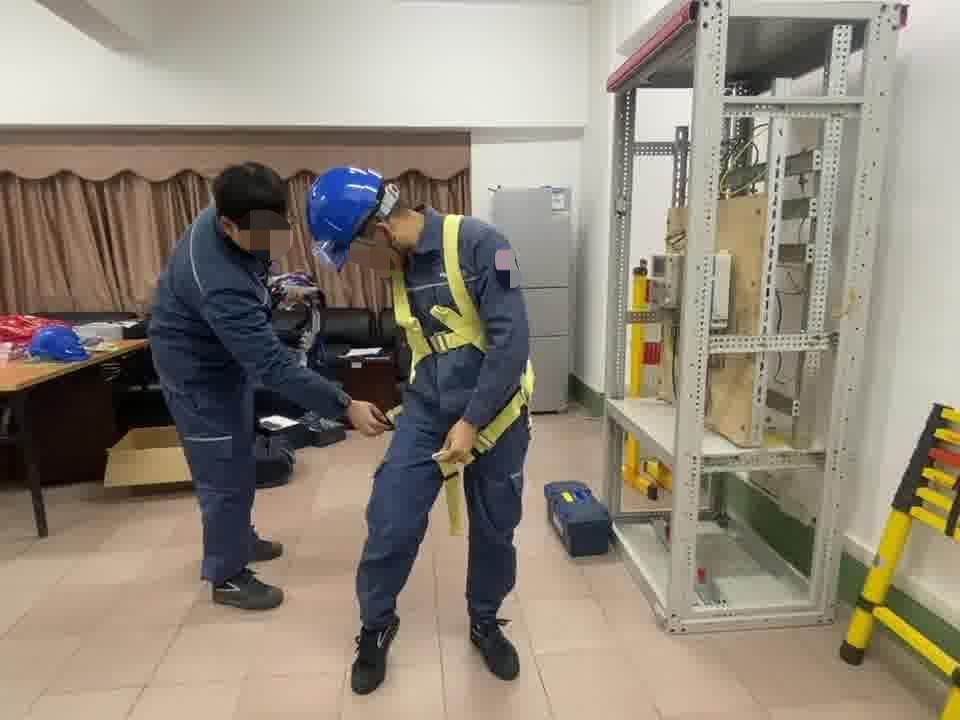halt: (309, 166, 390, 270)
inear: (361, 213, 406, 262)
unhalt: (215, 160, 295, 254)
